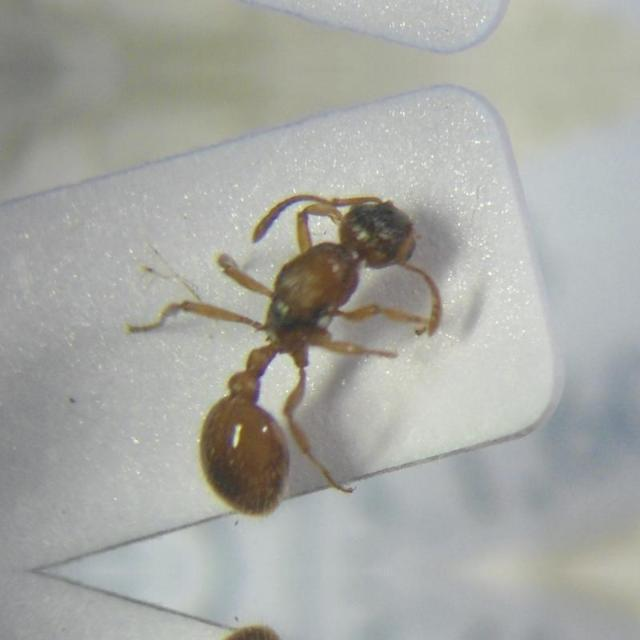Myrmica: (128, 184, 436, 530)
